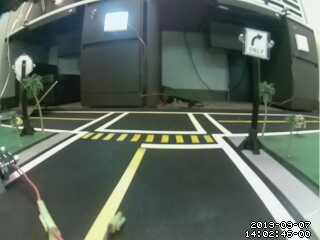Right_only_sign: (236, 25, 271, 62)
